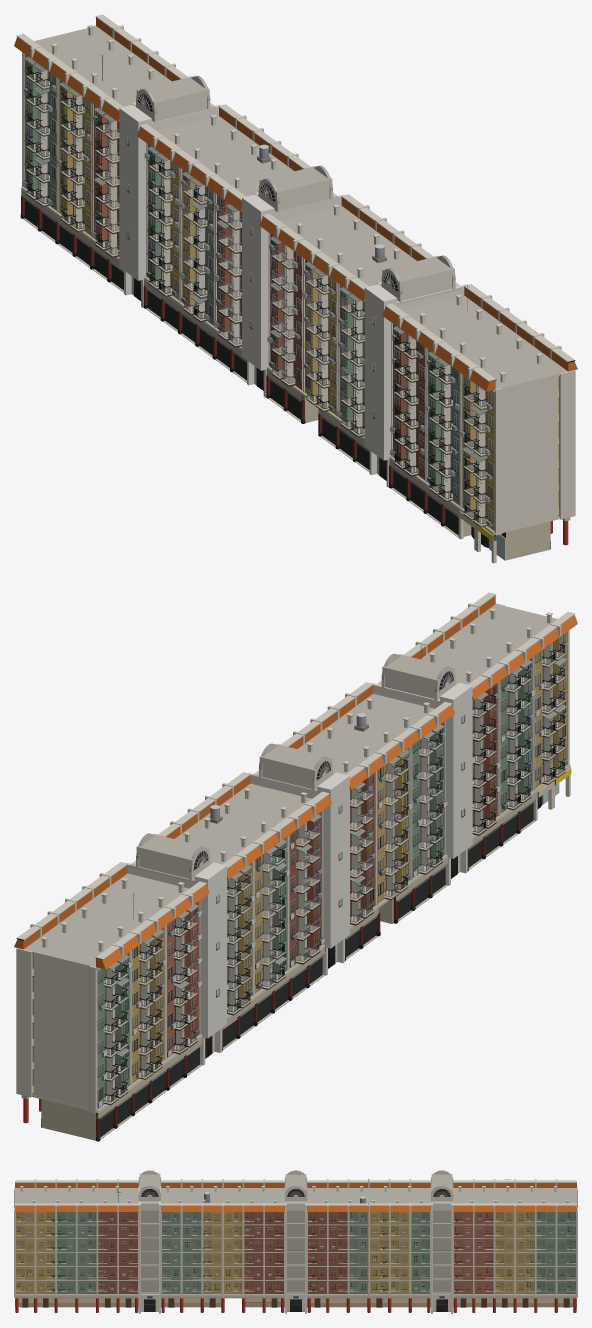
Rendered from SM_Estate_NW.glb.
3 views of the same model, one above another, from view 1: azimuth 30°, elevation 25°; view 2: azimuth 150°, elevation 25°; view 3: azimuth 270°, elevation 25° (orthographic). The views are drawn at different scales.
Visible parts, largest first — view 1: SM_Estate_NW_LM0, SM_Estate_NW_LM1, SM_Estate_NW_VC, SM_Estate_NW_NB; view 2: SM_Estate_NW_LM1, SM_Estate_NW_LM0, SM_Estate_NW_VC, SM_Estate_NW_NB; view 3: SM_Estate_NW_LM1, SM_Estate_NW_LM0, SM_Estate_NW_VC, SM_Estate_NW_NB.
Boxes of the visible parts, bbox=[...] form: SM_Estate_NW_LM0: bbox=[258, 179, 577, 563]; SM_Estate_NW_LM1: bbox=[14, 14, 338, 390]; SM_Estate_NW_VC: bbox=[20, 26, 575, 549]; SM_Estate_NW_NB: bbox=[26, 61, 492, 544]; SM_Estate_NW_LM1: bbox=[14, 744, 349, 1140]; SM_Estate_NW_LM0: bbox=[276, 592, 577, 963]; SM_Estate_NW_VC: bbox=[16, 610, 567, 1141]; SM_Estate_NW_NB: bbox=[99, 636, 564, 1093]; SM_Estate_NW_LM1: bbox=[284, 1171, 577, 1313]; SM_Estate_NW_LM0: bbox=[14, 1171, 304, 1313]; SM_Estate_NW_VC: bbox=[16, 1170, 575, 1311]; SM_Estate_NW_NB: bbox=[17, 1213, 574, 1288].
Bounding box in the file's own units: 11.96 × 25.74 × 106.
